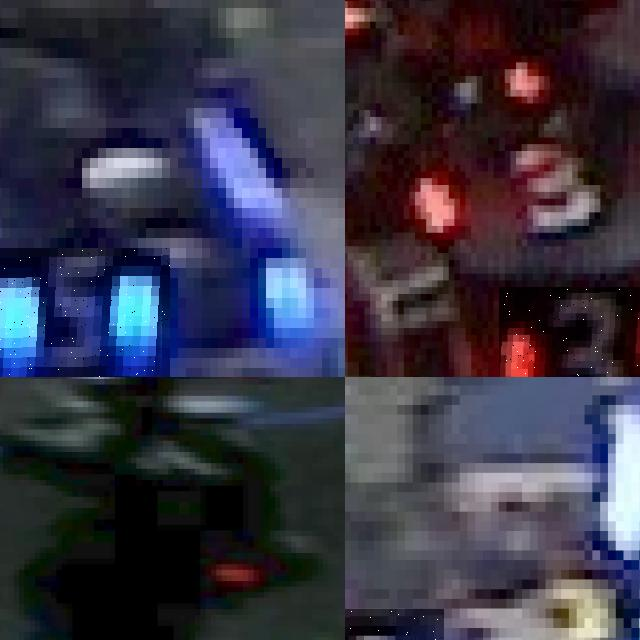B5: (0, 248, 170, 377)
R3: (499, 287, 640, 377)
